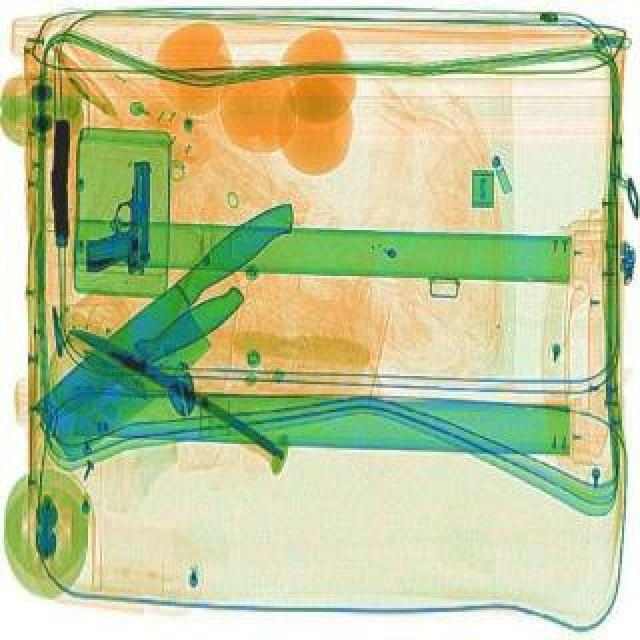gun: (84, 164, 152, 282), (50, 124, 72, 252)
knife: (20, 192, 330, 472), (26, 284, 252, 444), (62, 326, 290, 464)
